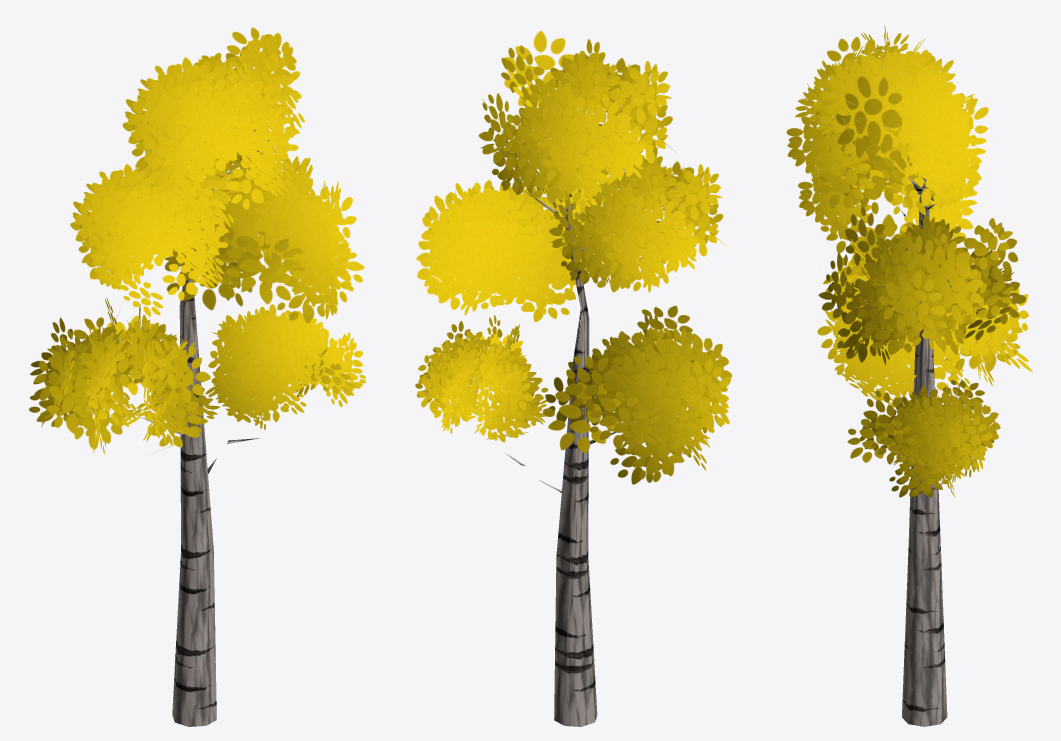
File: birch-trees-4.glb
The picture shows the model from 3 angles, left to right: view 1: azimuth 30°, elevation 25°; view 2: azimuth 150°, elevation 25°; view 3: azimuth 270°, elevation 25°; orthographic projection. The views are drawn at different scales.
Visible parts, largest first — view 1: BirchTree_1; view 2: BirchTree_1; view 3: BirchTree_1.
Part boxes in pixels (x1=…): BirchTree_1: x1=29, y1=27, x2=365, y2=726; BirchTree_1: x1=415, y1=30, x2=732, y2=726; BirchTree_1: x1=786, y1=24, x2=1032, y2=726.
Bounding box in the file's own units: 2.71 × 5.45 × 1.94.
Materials: 2 (2 with a texture image).
